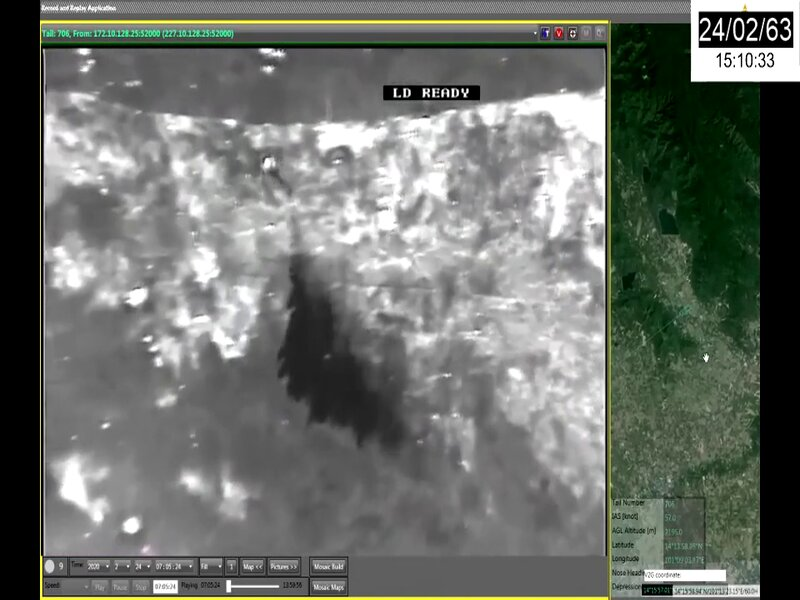Fire: (313, 88, 603, 266)
